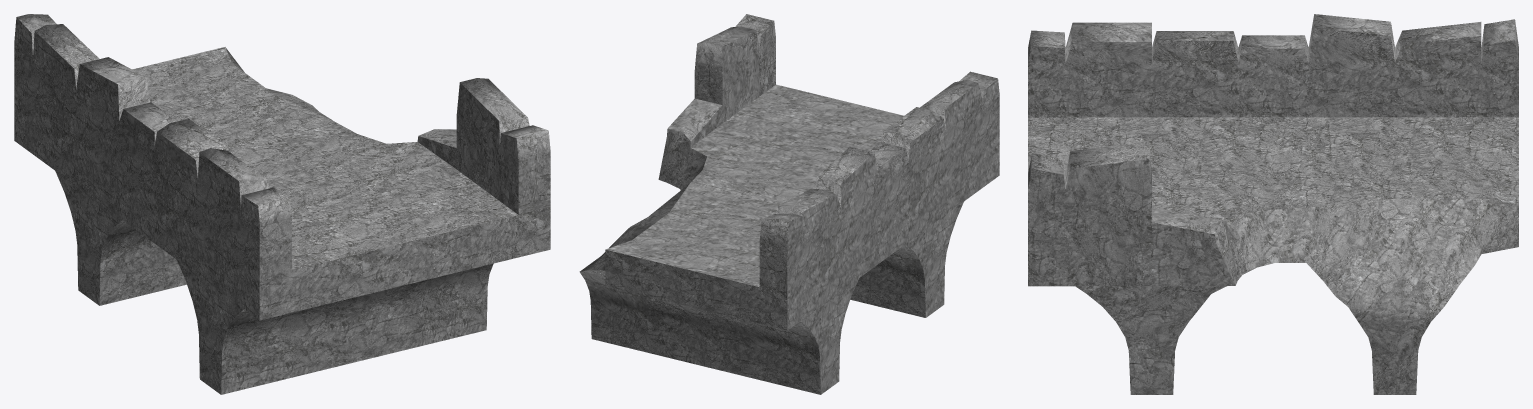
The model's file is materials_3_bridge_2.fbx.
3 renders of one model, left to right at view 1: azimuth 30°, elevation 25°; view 2: azimuth 150°, elevation 25°; view 3: azimuth 270°, elevation 25°, orthographic. The views are drawn at different scales.
Parts seen in each view (by area): view 1: materials_3_bridge_2; view 2: materials_3_bridge_2; view 3: materials_3_bridge_2.
Part boxes in pixels (x1,y1,x2,y2): materials_3_bridge_2: (14, 14, 550, 394); materials_3_bridge_2: (579, 14, 999, 394); materials_3_bridge_2: (1028, 14, 1518, 394).
Bounding box in the file's own units: 300 × 242 × 438.
